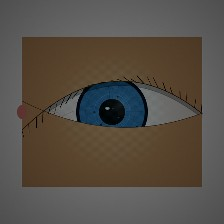hemorrhage_spot: (76, 70, 147, 127)
